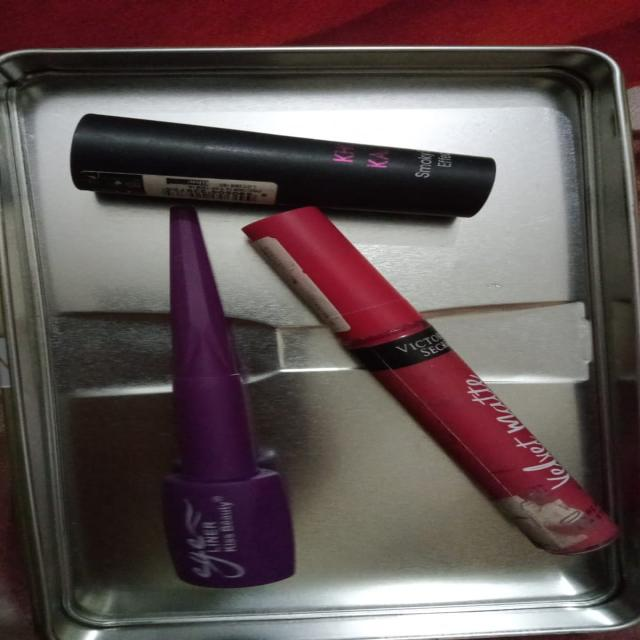lip gloss: (237, 202, 640, 570)
lip stick: (42, 108, 556, 212)
nail polish: (137, 209, 301, 597)
